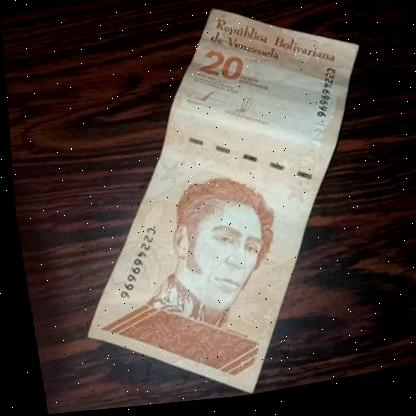twenty-front-vef: (33, 0, 408, 414)
